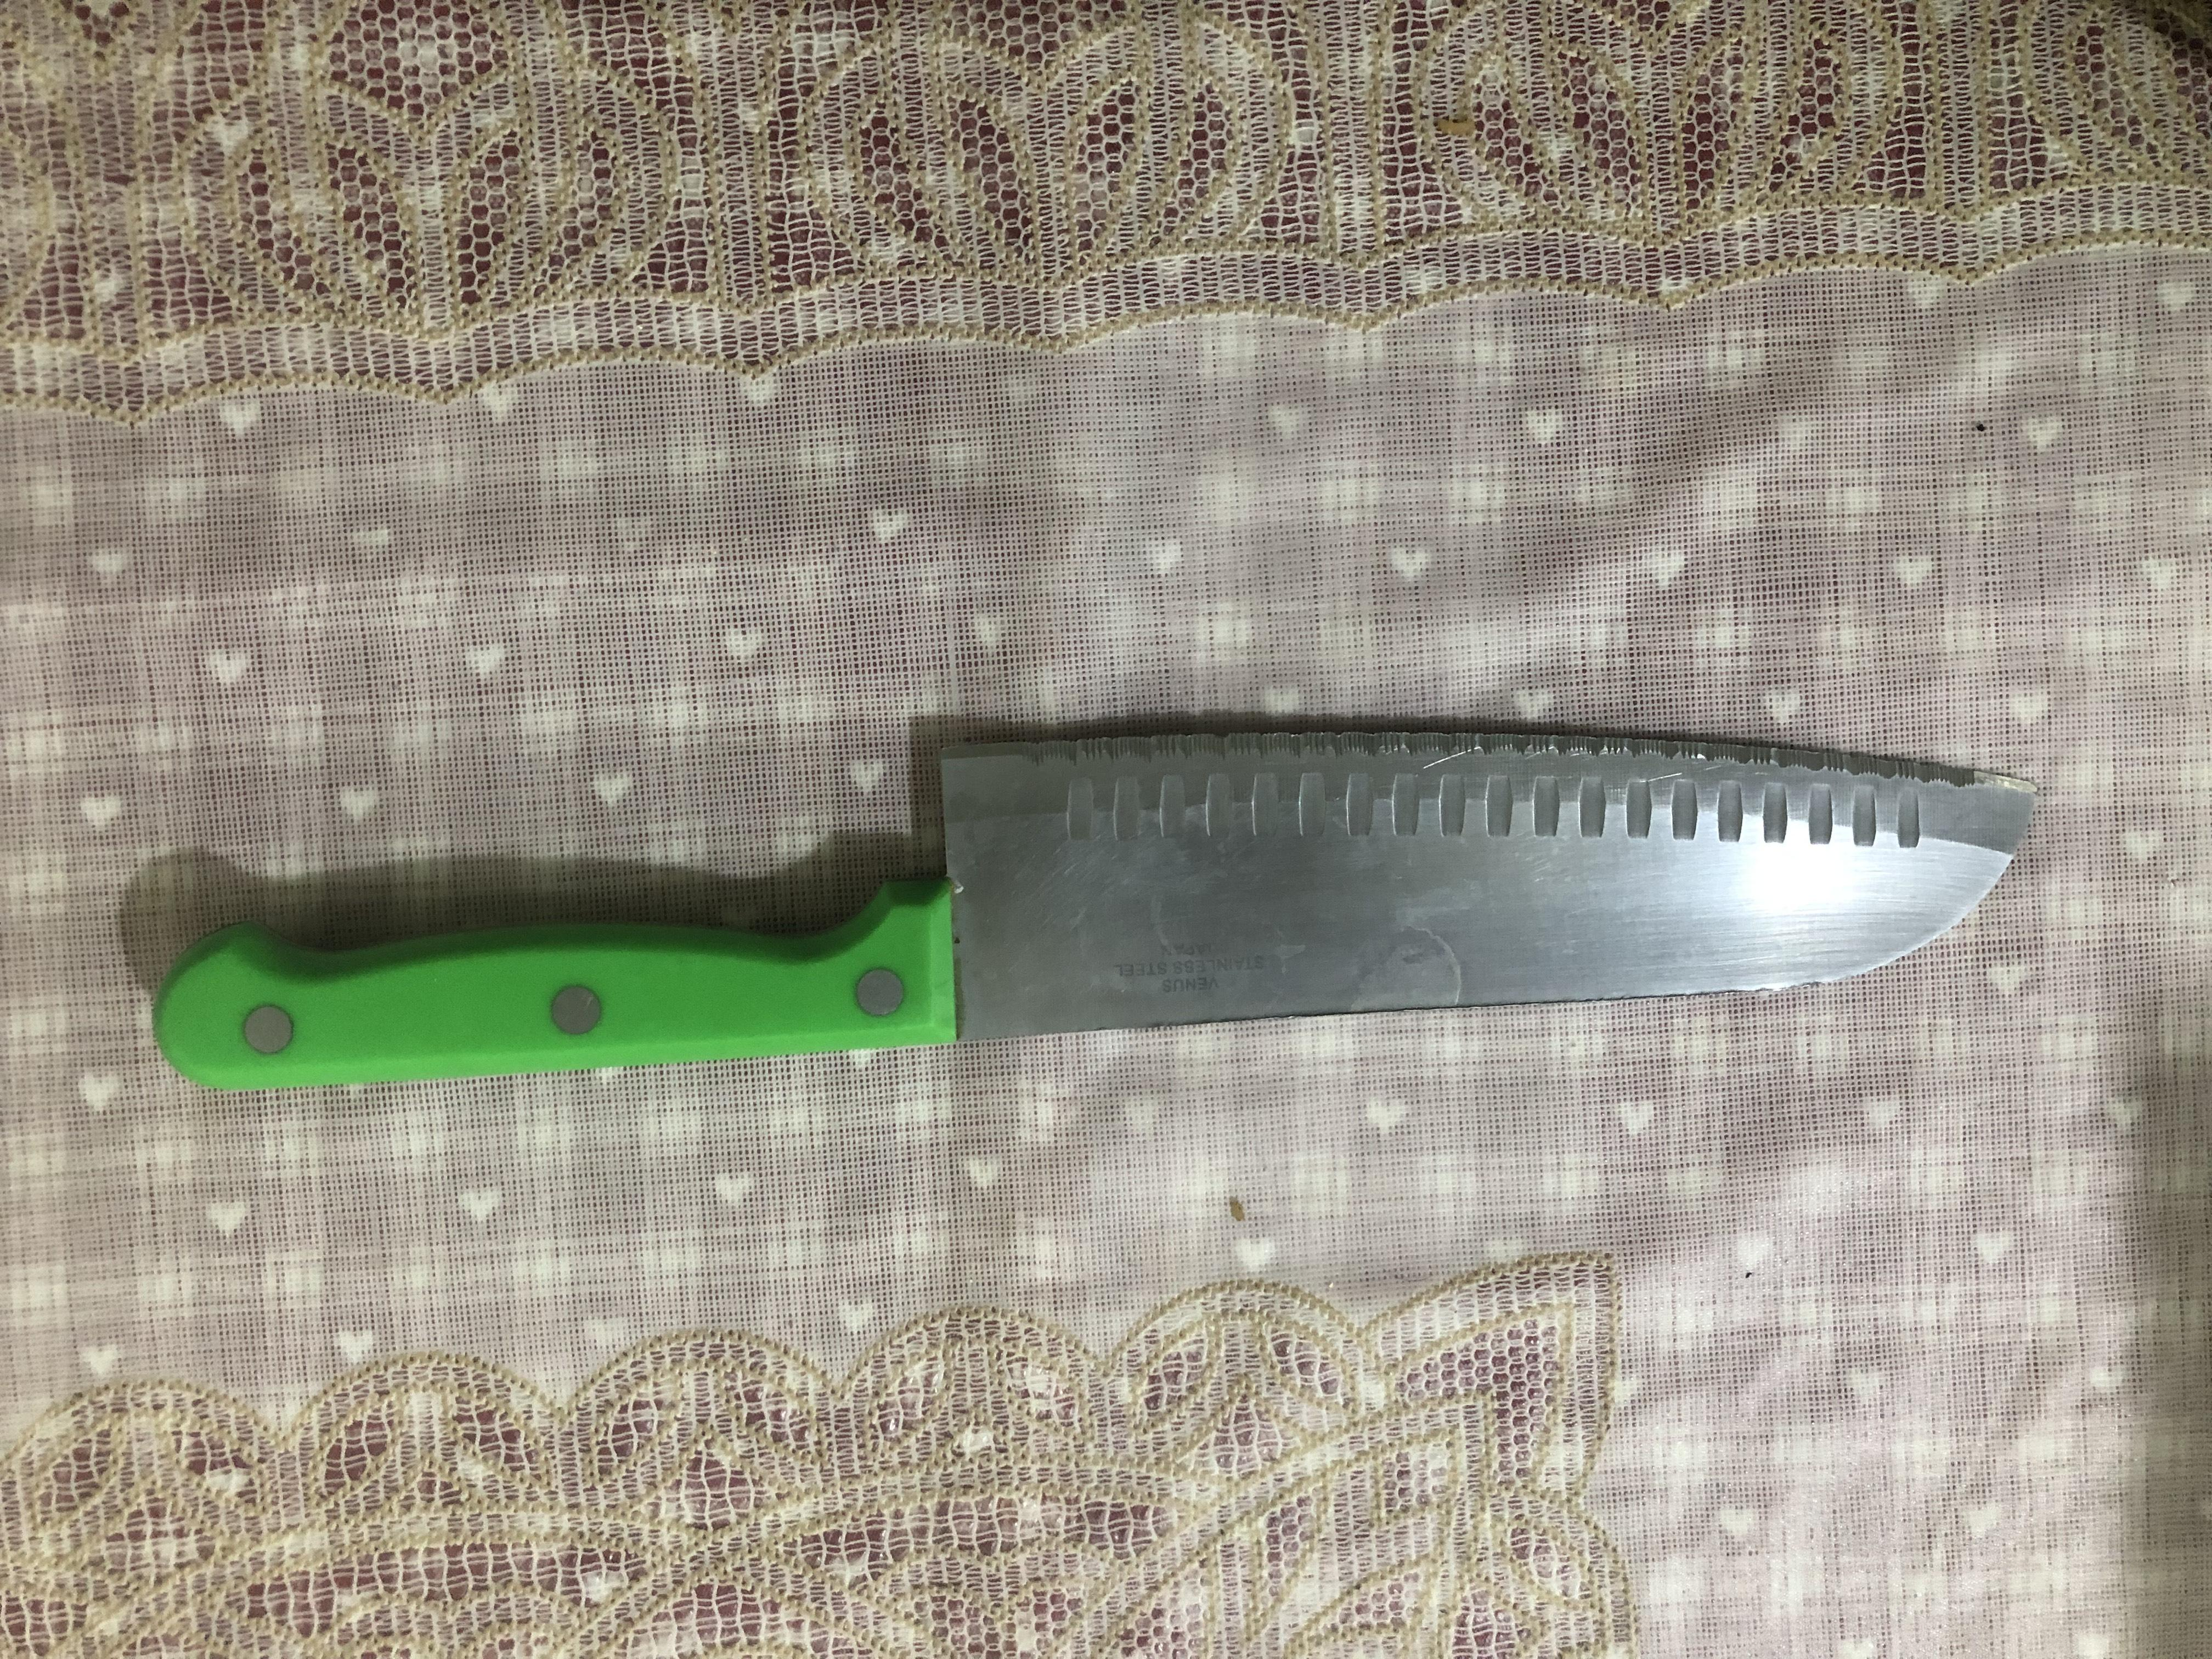weapon: (747, 112, 1266, 1541)
